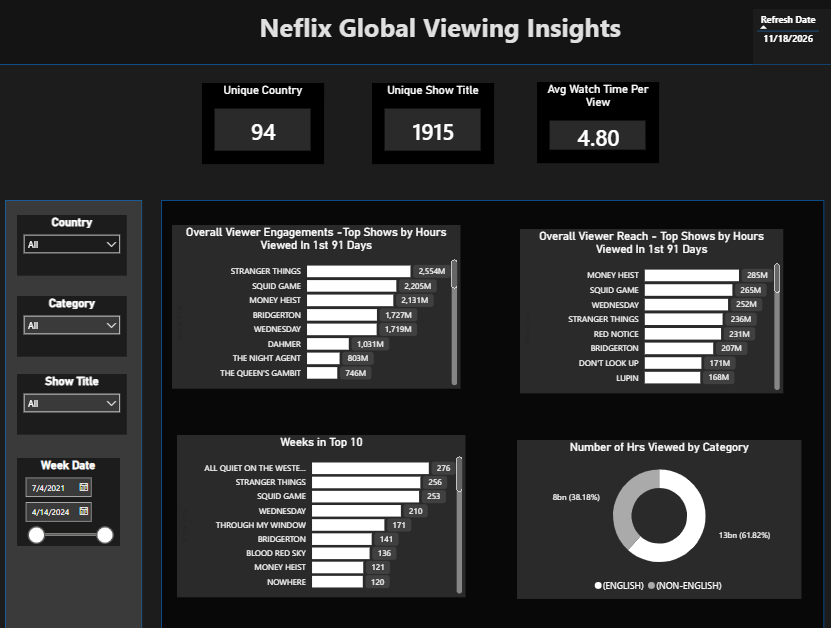

What the dashboard file says about the page in this screenshot:
{"tool":"powerbi","page":{"name":"Netflix Global Viewing Insights","canvas":[1280,1000],"ordinal":0},"visuals":[{"type":"shape","box":[0,0,1280.1,98.1],"z":0},{"type":"shape","box":[240,296.2,972.5,635],"z":0,"group":"g1"},{"type":"textbox","box":[379.8,11.2,564.1,68.9],"z":1000},{"type":"cardVisual","title":"Unique Show Title","fields":{"Data":["Count(All Weeks Global.Show Title)"]},"box":[550,125,178.8,118.8],"z":2000},{"type":"donutChart","title":"Number of Hrs Viewed by Category","fields":{"Category":["Most Popular.category - Copy.2"],"Y":["Sum(Most Popular.hours_viewed_first_91_days)"]},"box":[762.2,647.8,417.3,232.7],"z":2000,"group":"g1"},{"type":"cardVisual","title":"Avg Watch Time Per View","fields":{"Data":["Most Popular.Average Watch Time per View"]},"box":[791.2,123.8,178.8,118.8],"z":3000},{"type":"clusteredBarChart","title":"Overall Viewer Reach - Top Shows by Hours Viewed In 1st 91 Days","fields":{"Category":["Most Popular.Show Title"],"Y":["Sum(Most Popular.views_first_91_days)"]},"box":[766.9,338.8,386,241.2],"z":3500,"group":"g1"},{"type":"cardVisual","title":"Unique Country","fields":{"Data":["Count(All Weeks Country.country_name)"]},"box":[300,125,178.8,118.8],"z":4000},{"type":"clusteredBarChart","title":"Overall Viewer Engagements -Top Shows by Hours Viewed In 1st 91 Days","fields":{"Category":["Most Popular.Show Title"],"Y":["Sum(Most Popular.hours_viewed_first_91_days)"]},"box":[256.9,332.7,423.1,239.9],"z":4000,"group":"g1"},{"type":"clusteredBarChart","title":"Weeks in Top 10","fields":{"Category":["Most Popular.Show Title"],"Y":["Sum(Most Popular.All Total Weeks in Top 10)"]},"box":[263.8,640.5,423.1,237.5],"z":4500,"group":"g1"},{"type":"group","id":"g1","title":"Group 1","box":[240,296.2,972.5,635],"z":5000},{"type":"shape","box":[11.2,296.2,201.2,635],"z":6000},{"type":"slicer","title":"Country","fields":{"Values":["All Weeks Country.country_name"]},"box":[30,317.5,161.2,88.8],"z":7000},{"type":"slicer","title":"Category","fields":{"Values":["All Weeks Global.Show Title"]},"box":[30,436.2,161.2,88.8],"z":7001},{"type":"slicer","title":"Show Title","fields":{"Values":["All Weeks Country.country_name"]},"box":[30,551.2,161.2,88.8],"z":7002},{"type":"slicer","title":"Week Date","fields":{"Values":["AllWeeks.Date"]},"box":[30,675,150,128.8],"z":7003},{"type":"tableEx","fields":{"Values":["AllWeeks.Refresh Date"]},"box":[1108.8,16.2,122.5,81.2],"z":7004}]}

Visuals, with their boxes on the page's 1280x1000 design canvas (x1, y1, x2, y2). These are canvas units, not pixel positions in the 831x628 screenshot, which may show the page scaled, cropped or inside an application window:
shape: x1=0 y1=0 x2=1280 y2=98
shape: x1=240 y1=296 x2=1212 y2=931
textbox: x1=380 y1=11 x2=944 y2=80
"Unique Show Title" cardVisual: x1=550 y1=125 x2=729 y2=244
"Number of Hrs Viewed by Category" donutChart: x1=762 y1=648 x2=1180 y2=880
"Avg Watch Time Per View" cardVisual: x1=791 y1=124 x2=970 y2=243
"Overall Viewer Reach - Top Shows by Hours Viewed In 1st 91 Days" clusteredBarChart: x1=767 y1=339 x2=1153 y2=580
"Unique Country" cardVisual: x1=300 y1=125 x2=479 y2=244
"Overall Viewer Engagements -Top Shows by Hours Viewed In 1st 91 Days" clusteredBarChart: x1=257 y1=333 x2=680 y2=573
"Weeks in Top 10" clusteredBarChart: x1=264 y1=640 x2=687 y2=878
"Group 1" group: x1=240 y1=296 x2=1212 y2=931
shape: x1=11 y1=296 x2=212 y2=931
"Country" slicer: x1=30 y1=318 x2=191 y2=406
"Category" slicer: x1=30 y1=436 x2=191 y2=525
"Show Title" slicer: x1=30 y1=551 x2=191 y2=640
"Week Date" slicer: x1=30 y1=675 x2=180 y2=804
tableEx - AllWeeks.Refresh Date: x1=1109 y1=16 x2=1231 y2=97
